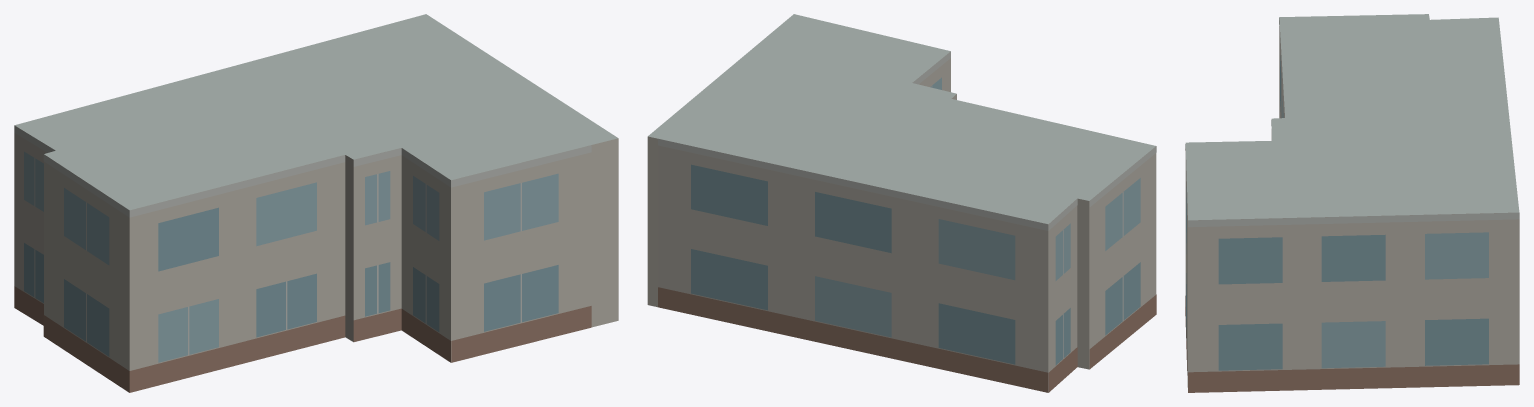
The model's file is survey-upis-32803116.glb.
The picture shows the model from 3 angles, left to right: view 1: azimuth 30°, elevation 25°; view 2: azimuth 150°, elevation 25°; view 3: azimuth 270°, elevation 25°; orthographic projection. The views are drawn at different scales.
Visible parts, largest first — view 1: survey-upis-32803116.tmp; view 2: survey-upis-32803116.tmp; view 3: survey-upis-32803116.tmp.
Boxes of the visible parts, x1,y1,x2,y2 form: survey-upis-32803116.tmp: (14,14,618,392); survey-upis-32803116.tmp: (647,14,1156,392); survey-upis-32803116.tmp: (1185,14,1519,392).
Bounding box in the file's own units: 15.66 × 6.1 × 10.71.
